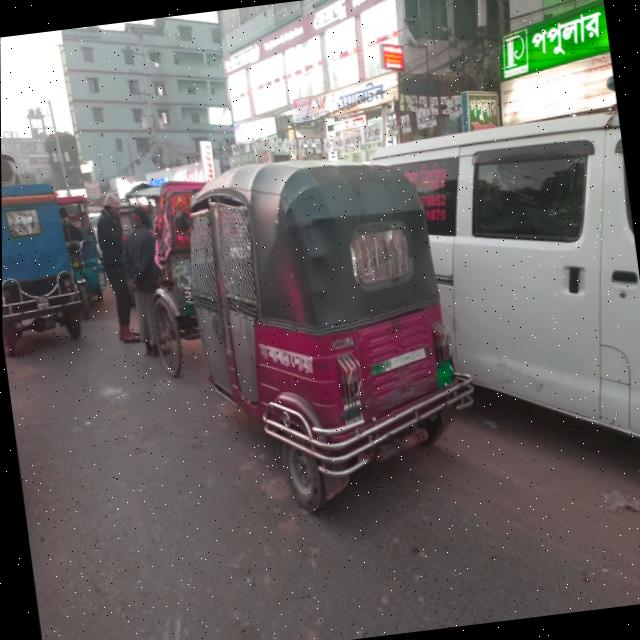cng: (169, 106, 509, 554)
